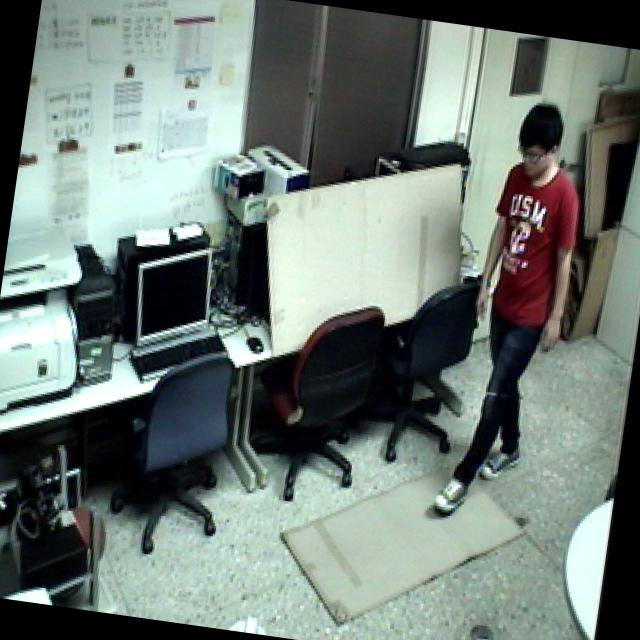stand: (424, 77, 606, 542)
